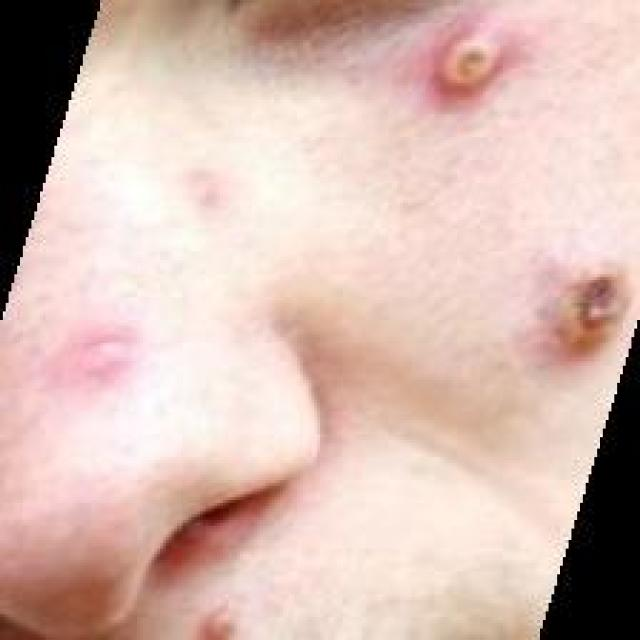monkeypox: (63, 20, 637, 640)
